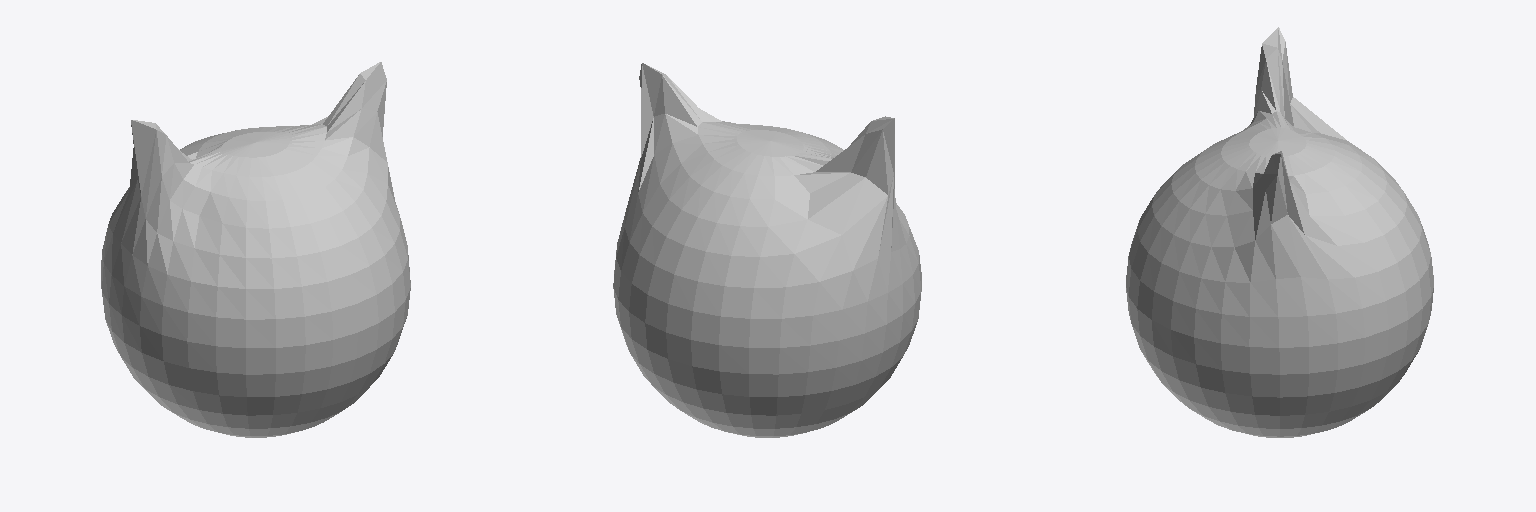
The model's file is devil.obj.
3 views of the same model, side by side, from view 1: azimuth 30°, elevation 25°; view 2: azimuth 150°, elevation 25°; view 3: azimuth 270°, elevation 25° (orthographic).
Parts seen in each view (by area): view 1: Sphere; view 2: Sphere; view 3: Sphere.
Boxes of the visible parts, <box> form: Sphere: <box>101,62,410,437</box>; Sphere: <box>613,63,921,437</box>; Sphere: <box>1126,27,1433,437</box>.
Size of the model in its own units: 2.01 by 2.39 by 2.